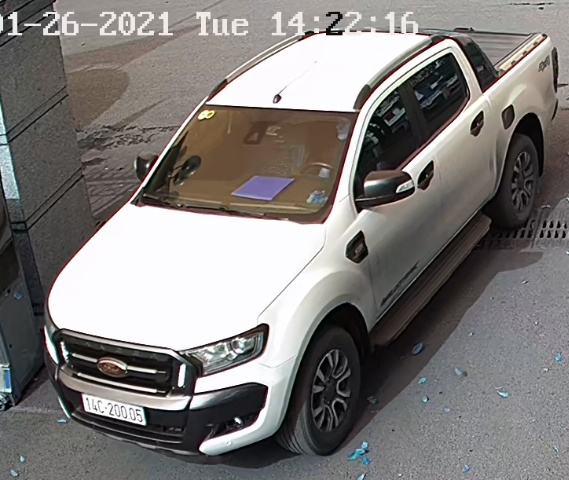vehicle plate: (75, 388, 148, 426)
